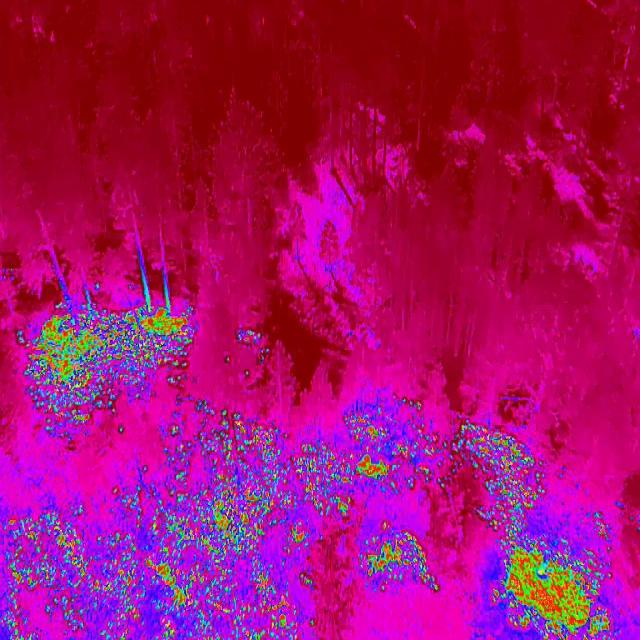fire: (0, 492, 355, 639), (140, 391, 541, 491), (472, 491, 632, 640), (15, 294, 198, 424), (361, 520, 438, 590), (230, 326, 275, 370)
